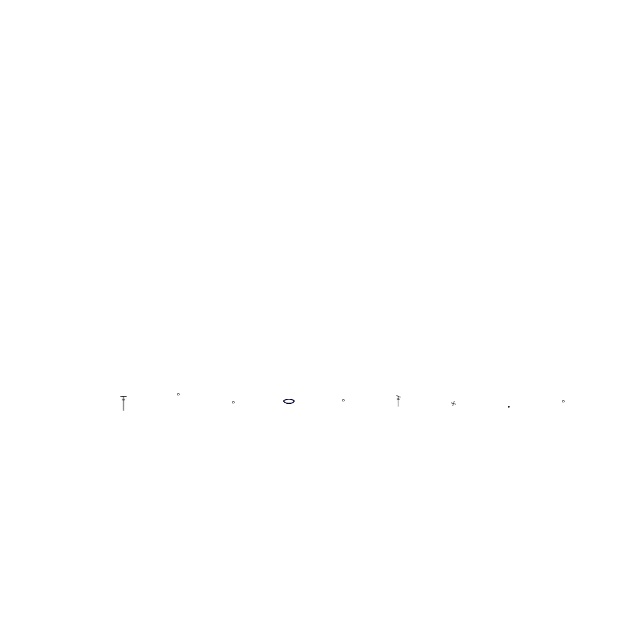chain: (282, 396, 296, 406), (562, 400, 566, 404), (232, 402, 236, 404), (342, 400, 346, 402), (178, 394, 180, 396), (508, 406, 510, 408)
double treble: (120, 396, 128, 412), (396, 395, 402, 407)
enseble_chain: (452, 402, 456, 406)
